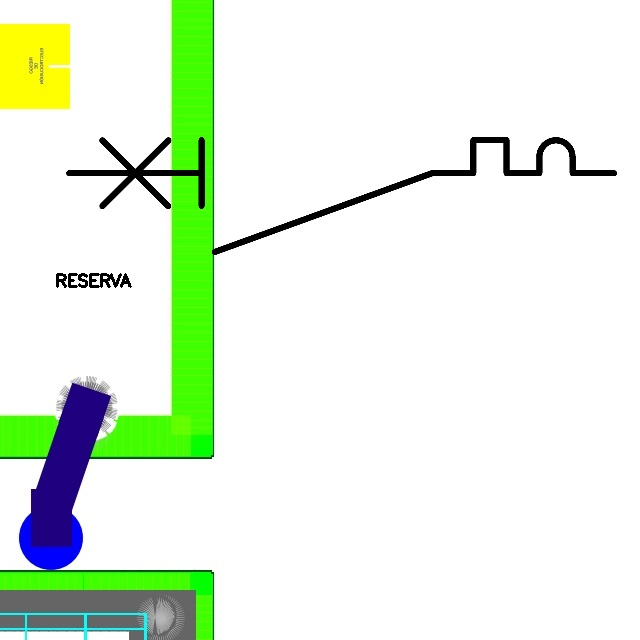interruptor_termomagnetico: (55, 126, 628, 266)
